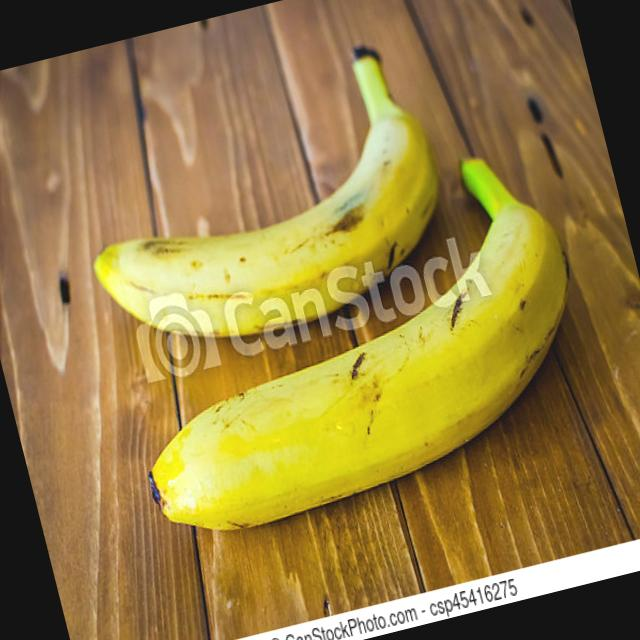Platano: (91, 138, 612, 548), (55, 39, 467, 368)
